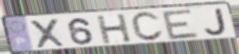6: (67, 17, 95, 46)
C: (129, 11, 165, 43)
E: (160, 8, 201, 41)
H: (95, 13, 134, 45)
J: (203, 8, 229, 37)
X: (28, 18, 68, 50)
